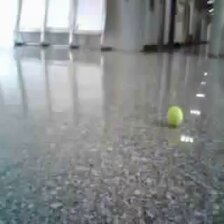tennis: (166, 106, 183, 124)
